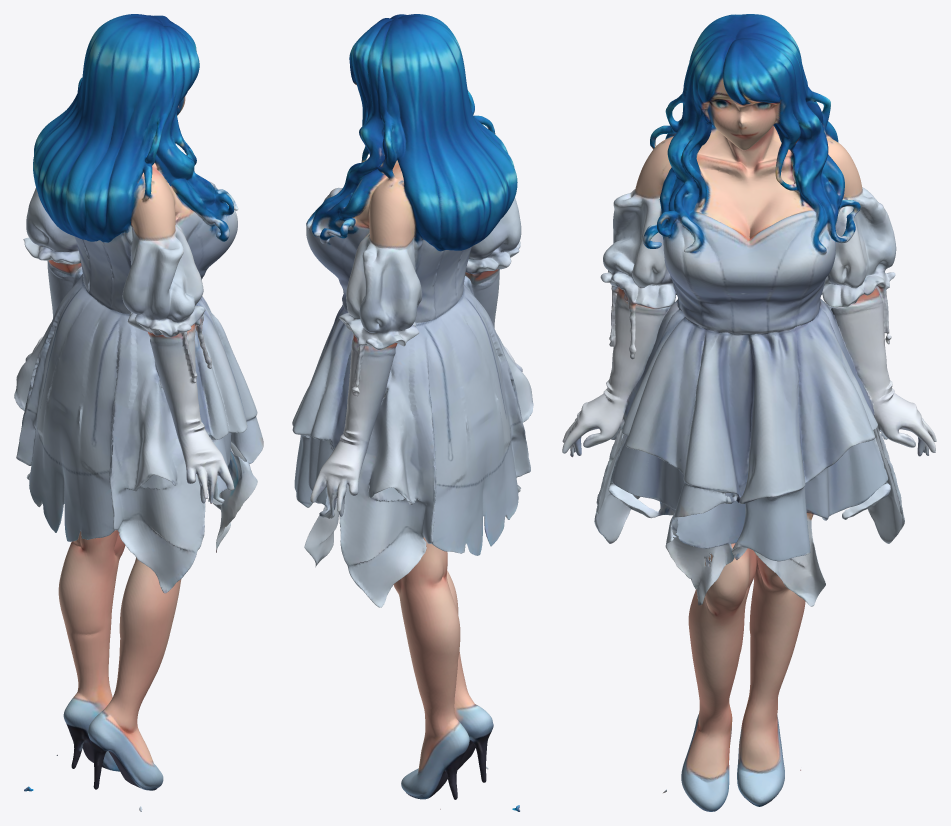
3 views of the same model, side by side, from view 1: azimuth 30°, elevation 25°; view 2: azimuth 150°, elevation 25°; view 3: azimuth 270°, elevation 25° (orthographic). The views are drawn at different scales.
Parts seen in each view (by area): view 1: tripo_node_b63e2dac-e083-40d9-8bb6-3e2d9100f12a; view 2: tripo_node_b63e2dac-e083-40d9-8bb6-3e2d9100f12a; view 3: tripo_node_b63e2dac-e083-40d9-8bb6-3e2d9100f12a.
Boxes of the visible parts, box(x1,y1,x2,y2) form: tripo_node_b63e2dac-e083-40d9-8bb6-3e2d9100f12a: box(14, 14, 263, 811); tripo_node_b63e2dac-e083-40d9-8bb6-3e2d9100f12a: box(292, 14, 533, 811); tripo_node_b63e2dac-e083-40d9-8bb6-3e2d9100f12a: box(562, 14, 936, 811).
Size of the model in its own units: 0.29 by 1 by 0.4282.
1 material, 1 textured.
